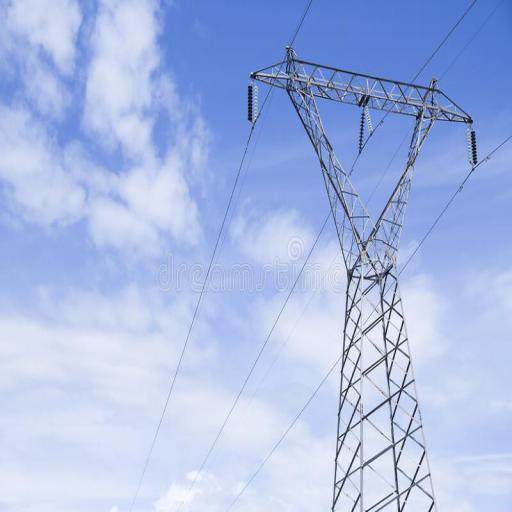wt_6: (244, 46, 482, 511)
